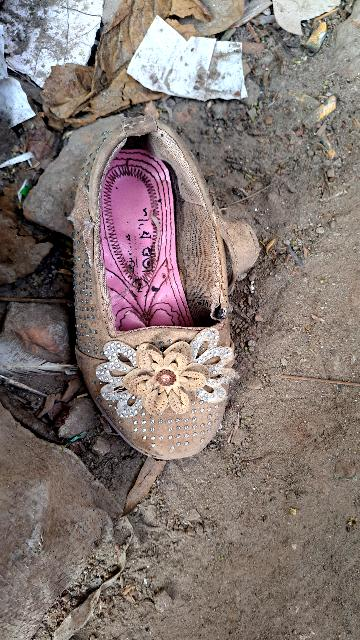sandal: (43, 78, 266, 490)
